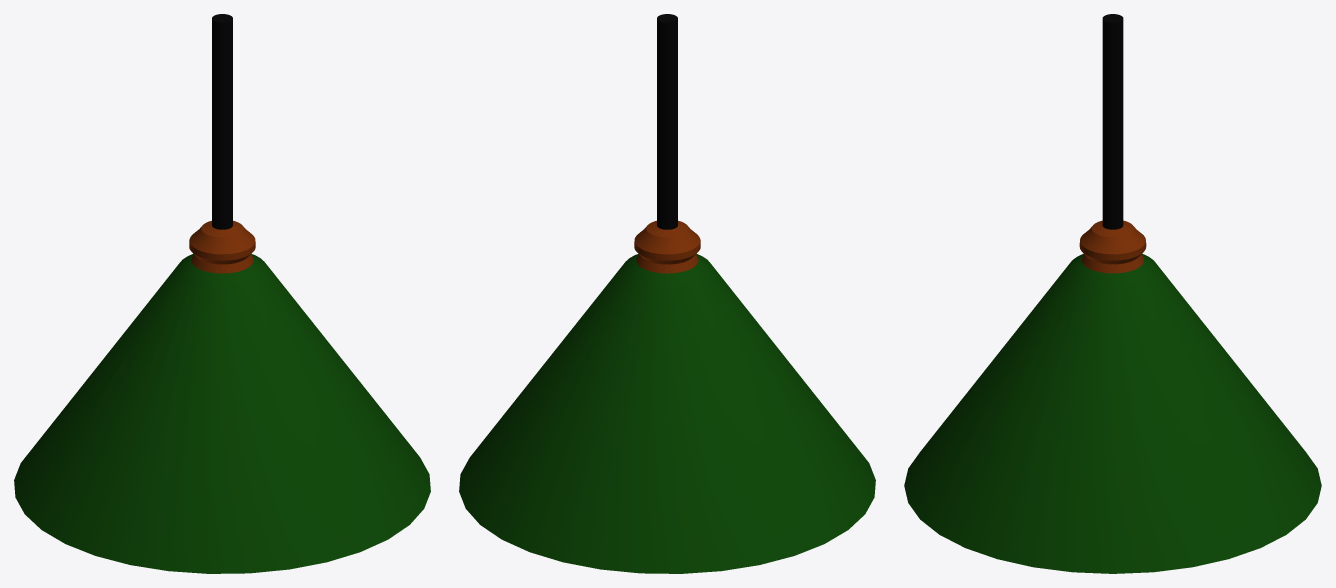
Rendered from ceiling lamp (1).fbx.
The picture shows the model from 3 angles, left to right: view 1: azimuth 30°, elevation 25°; view 2: azimuth 150°, elevation 25°; view 3: azimuth 270°, elevation 25°; orthographic projection.
Visible parts, largest first — view 1: Cylinder.002, Cylinder.001, Cylinder.003; view 2: Cylinder.002, Cylinder.001, Cylinder.003; view 3: Cylinder.002, Cylinder.001, Cylinder.003.
Boxes of the visible parts, x1,y1,x2,y2 form: Cylinder.002: (14, 253, 430, 573); Cylinder.001: (212, 14, 232, 229); Cylinder.003: (189, 220, 255, 273); Cylinder.002: (459, 253, 875, 573); Cylinder.001: (657, 14, 677, 229); Cylinder.003: (634, 220, 700, 273); Cylinder.002: (904, 253, 1321, 573); Cylinder.001: (1102, 14, 1123, 229); Cylinder.003: (1079, 220, 1146, 273).
Size of the model in its own units: 332 by 418 by 332.
